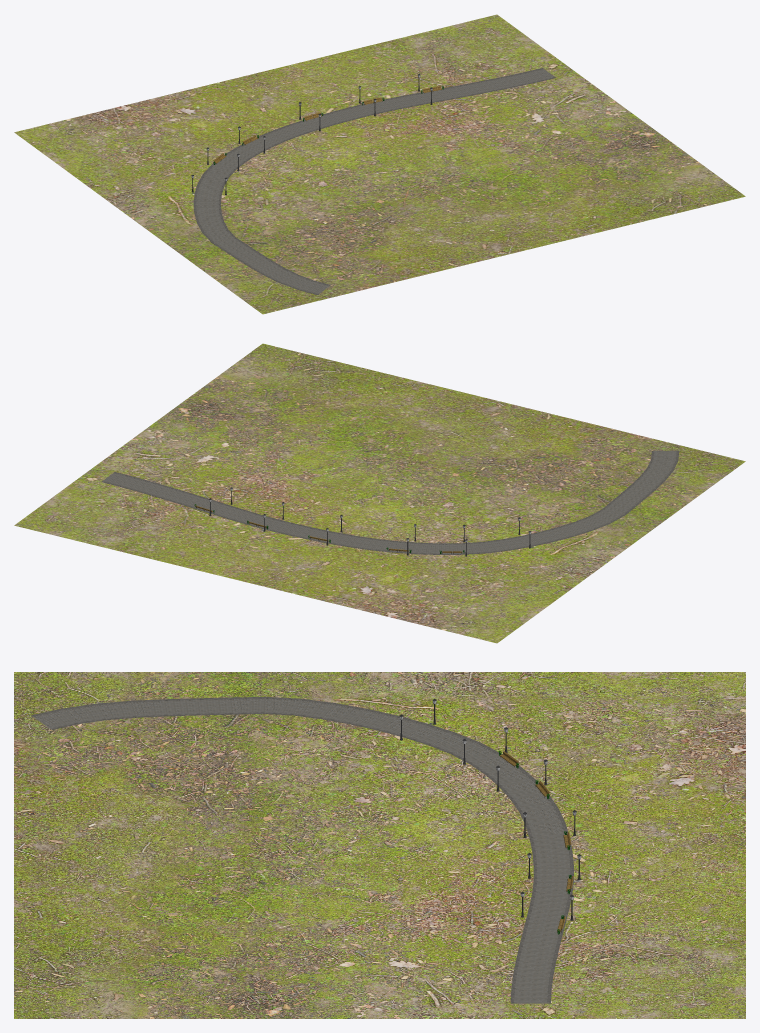
Rendered from Panchina.fbx.
The picture shows the model from 3 angles, top to bottom: view 1: azimuth 30°, elevation 25°; view 2: azimuth 150°, elevation 25°; view 3: azimuth 270°, elevation 25°; orthographic projection. The views are drawn at different scales.
Parts seen in each view (by area): view 1: Plane.001, Plane; view 2: Plane.001, Plane; view 3: Plane.001, Plane.
Boxes of the visible parts, x1=… form: Plane.001: x1=14, y1=14, x2=745, y2=314; Plane: x1=193, y1=68, x2=555, y2=294; Plane.001: x1=14, y1=343, x2=745, y2=643; Plane: x1=101, y1=450, x2=679, y2=554; Plane.001: x1=14, y1=672, x2=745, y2=1018; Plane: x1=31, y1=696, x2=573, y2=1003.
Size of the model in its own units: 49942 by 1713 by 44534.
Materials: 9 (3 with a texture image).
